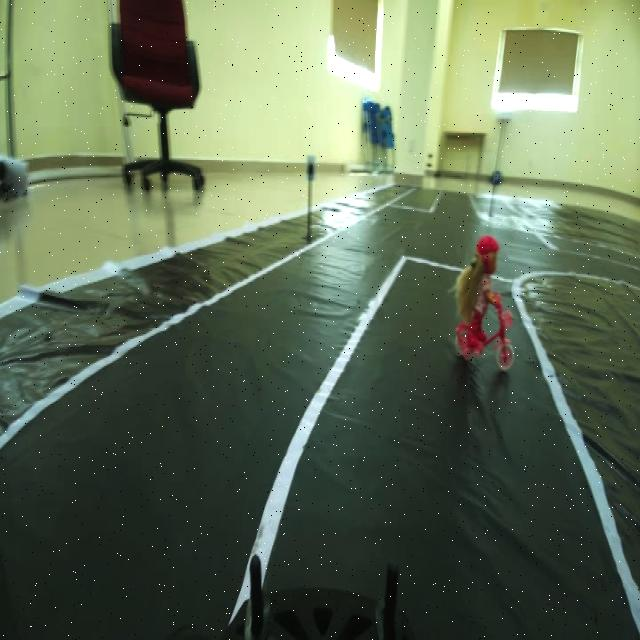pedestrian: (447, 234, 521, 372)
